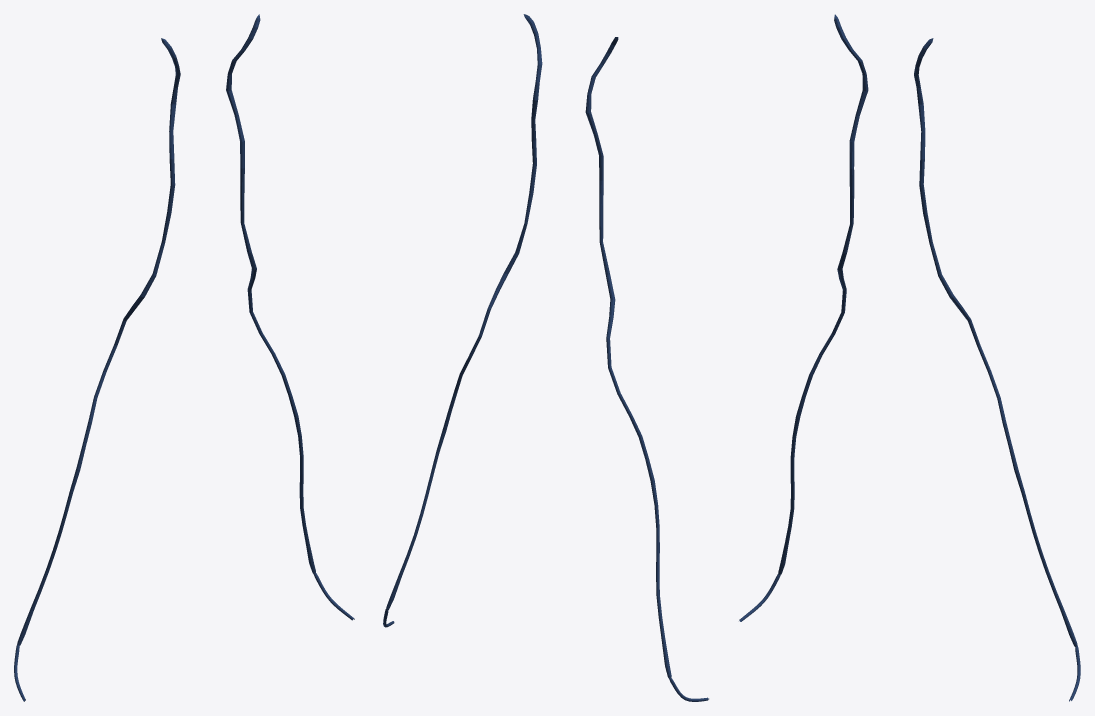
The model's file is Vena Safena Mayor.FBX.
The picture shows the model from 3 angles, left to right: view 1: azimuth 30°, elevation 25°; view 2: azimuth 150°, elevation 25°; view 3: azimuth 330°, elevation 25°; orthographic projection. The views are drawn at different scales.
Visible parts, largest first — view 1: CS_Veins; view 2: CS_Veins; view 3: CS_Veins.
Part boxes in pixels (x1,y1,x2,y2): CS_Veins: (14,14,354,701); CS_Veins: (383,14,708,701); CS_Veins: (739,14,1080,701).
Size of the model in its own units: 1344 by 2517 by 337.
